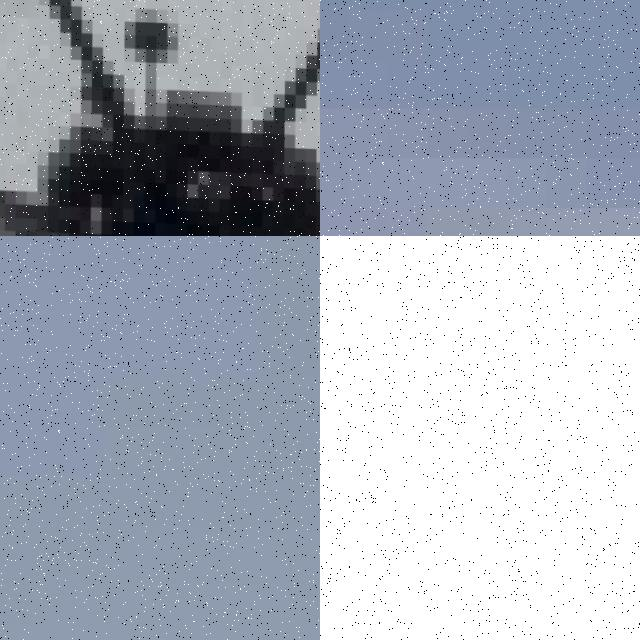drone: (0, 0, 320, 236)
